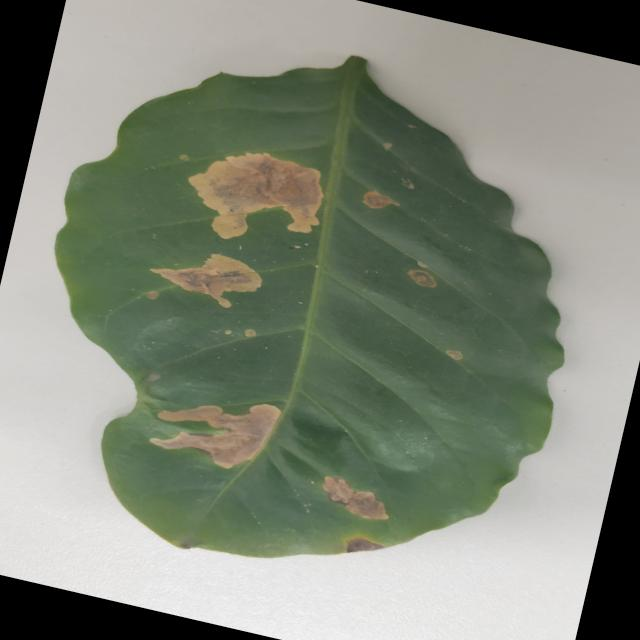KaratDaunKopi: (188, 153, 322, 238), (150, 404, 280, 468), (152, 254, 261, 307), (323, 476, 388, 519), (362, 191, 398, 208), (407, 269, 437, 287), (346, 539, 383, 552), (446, 350, 463, 360), (401, 179, 414, 189), (146, 291, 159, 299), (244, 329, 256, 337), (382, 142, 392, 150), (417, 261, 427, 268), (179, 155, 189, 161)
